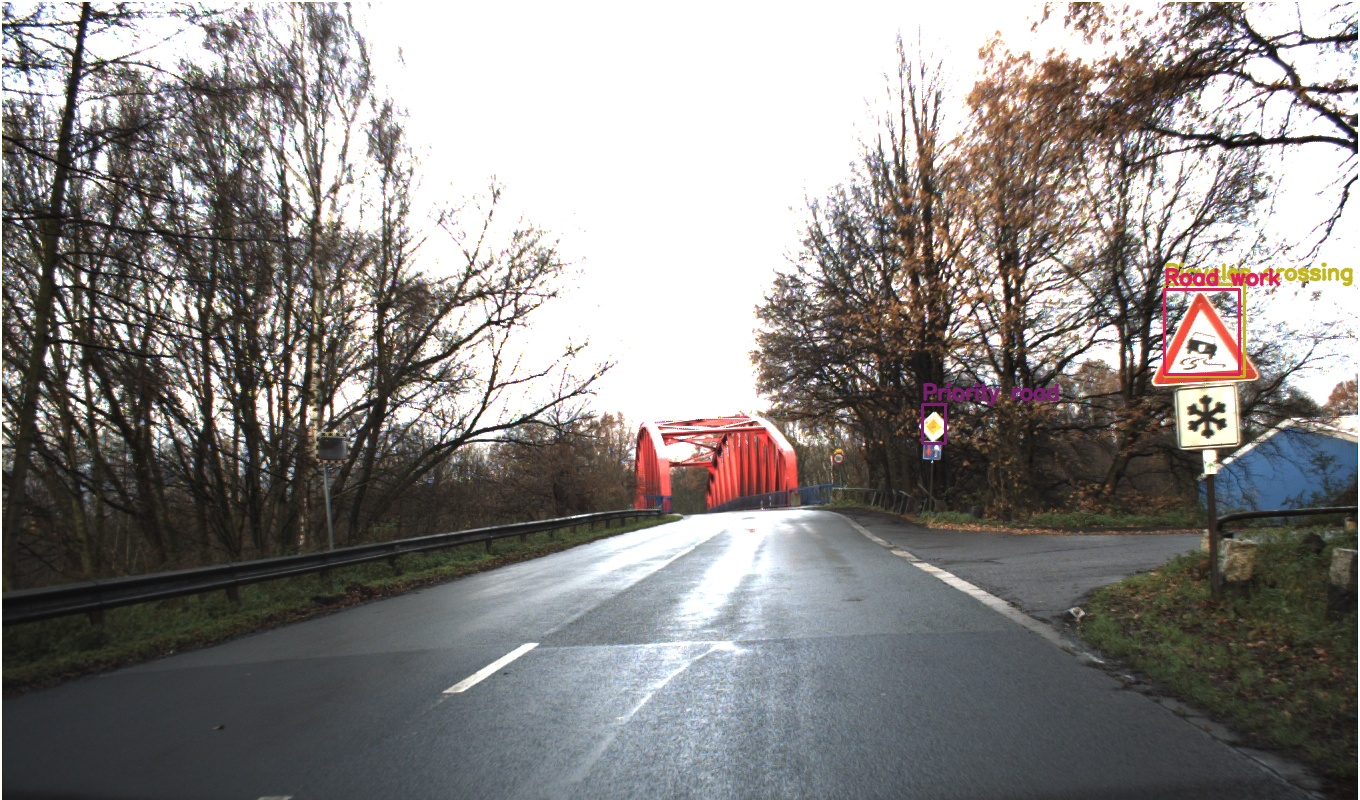Keep right: (183, 503, 260, 581)
